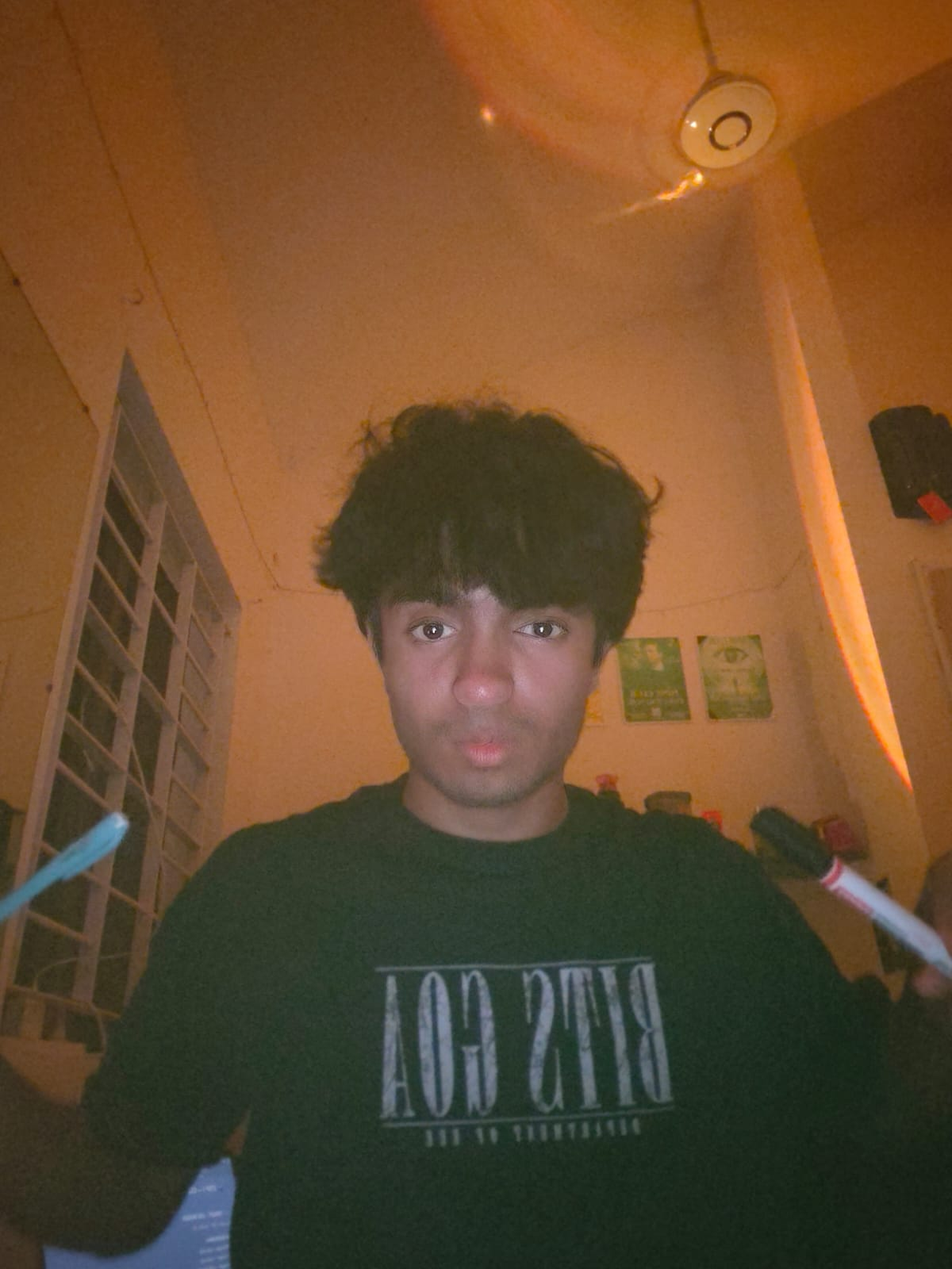case: (749, 803, 952, 974)
pen: (0, 800, 144, 960)
